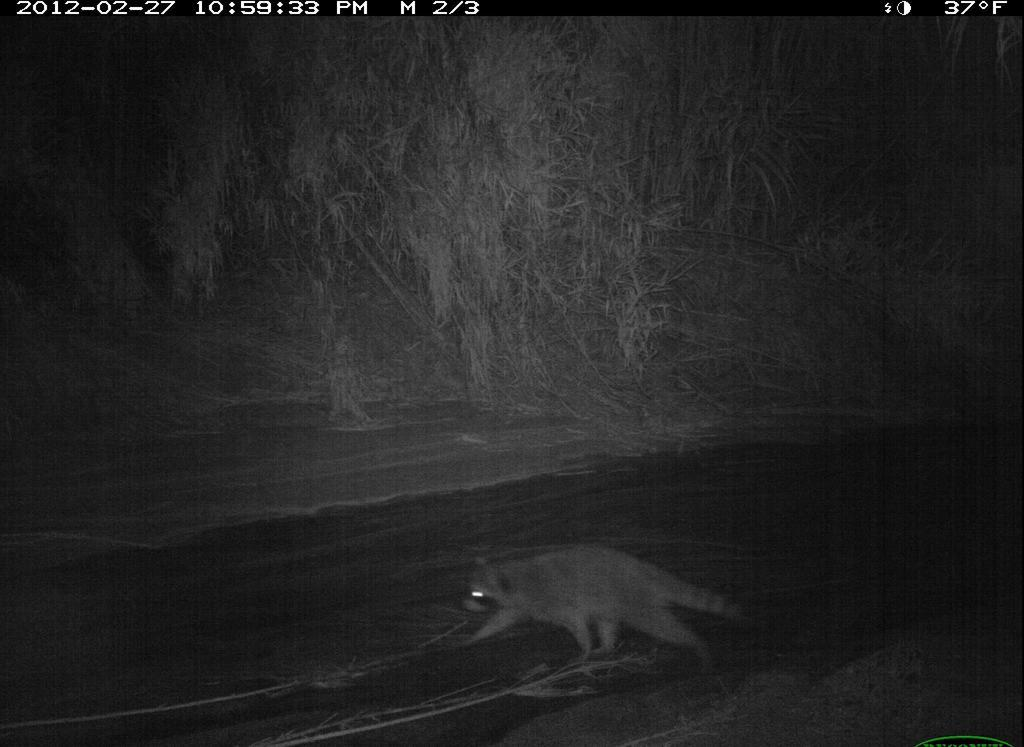raccoon: (445, 537, 762, 687)
